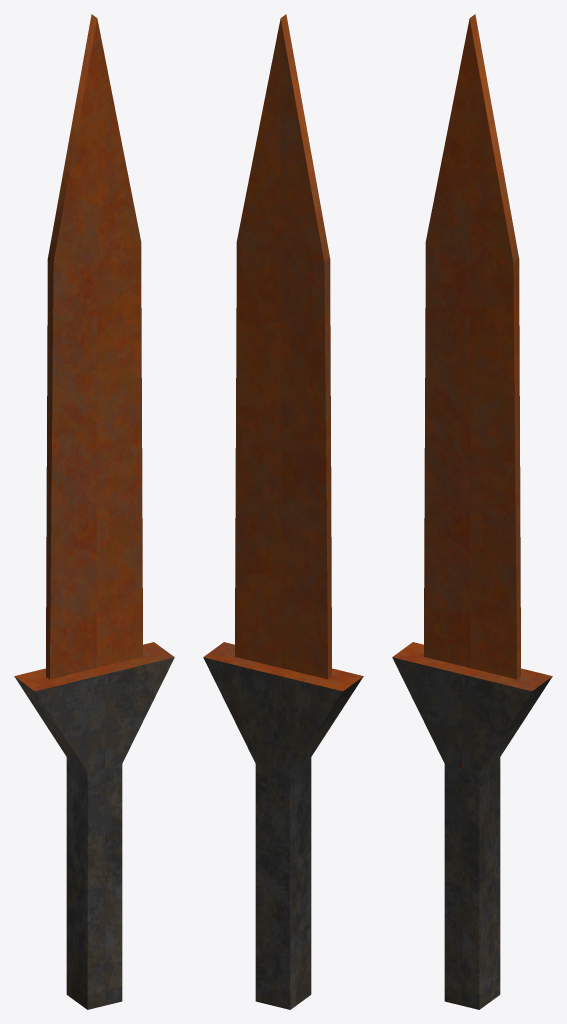
Rendered from copper_dagger.fbx.
The picture shows the model from 3 angles, left to right: view 1: azimuth 30°, elevation 25°; view 2: azimuth 150°, elevation 25°; view 3: azimuth 330°, elevation 25°; orthographic projection.
Parts seen in each view (by area): view 1: Box002; view 2: Box002; view 3: Box002.
Boxes of the visible parts, box(x1,y1,x2,y2) form: Box002: box(14, 14, 174, 1009); Box002: box(203, 14, 363, 1009); Box002: box(392, 14, 552, 1009).
Bounding box in the file's own units: 3.1 × 20.78 × 0.7986.
1 material, 1 textured.
